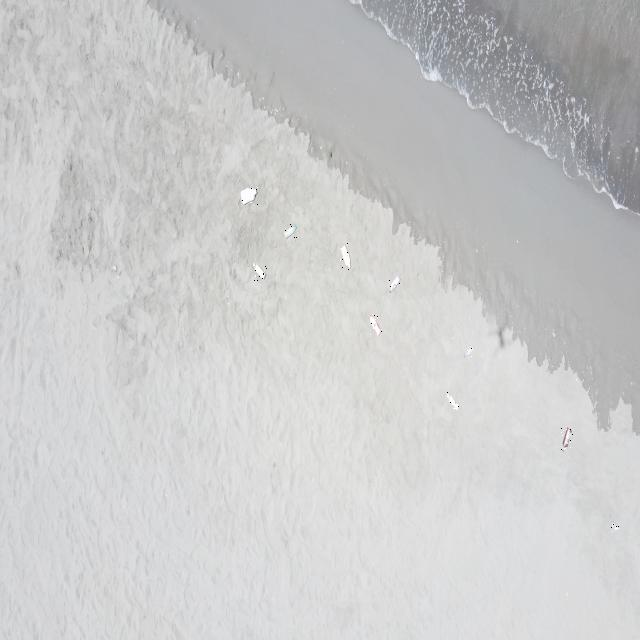Garbage: (240, 187, 256, 203), (368, 315, 380, 335), (340, 244, 350, 268), (562, 427, 572, 448), (447, 391, 459, 407), (284, 223, 296, 238), (252, 263, 263, 278), (388, 276, 399, 289), (464, 347, 472, 355), (111, 263, 116, 272), (612, 523, 619, 528)
